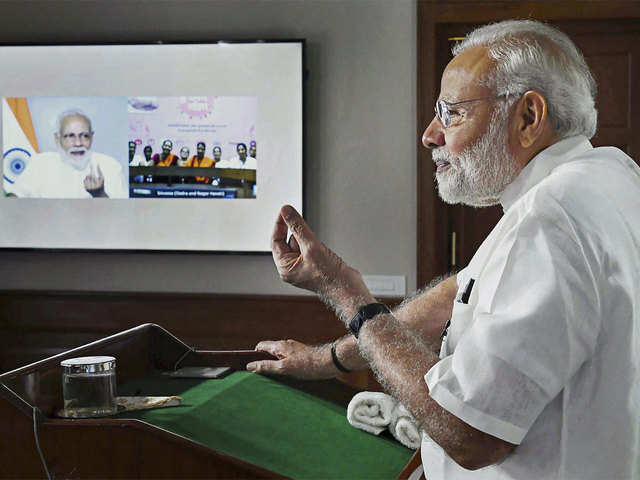modi: (413, 18, 628, 233)
